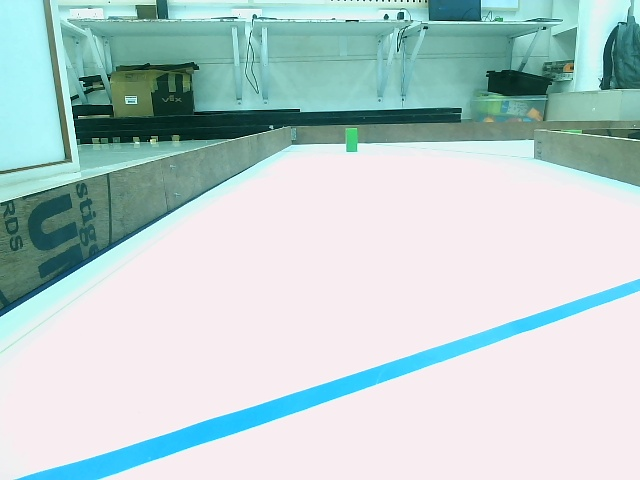green: (345, 127, 359, 150)
